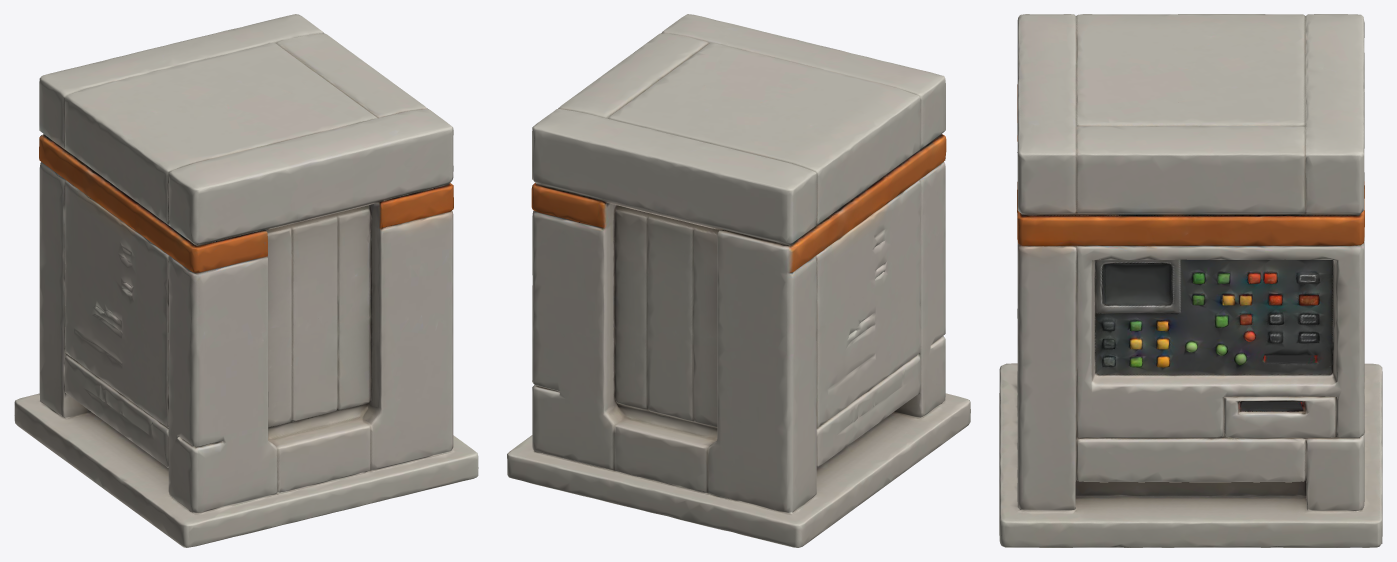
Rendered from tripo-output.glb.
3 renders of one model, left to right at view 1: azimuth 30°, elevation 25°; view 2: azimuth 150°, elevation 25°; view 3: azimuth 270°, elevation 25°, orthographic. The views are drawn at different scales.
Visible parts, largest first — view 1: tripo_node_bc15bf3e-319a-4455-bf9c-5b2950d0e815; view 2: tripo_node_bc15bf3e-319a-4455-bf9c-5b2950d0e815; view 3: tripo_node_bc15bf3e-319a-4455-bf9c-5b2950d0e815.
Boxes of the visible parts, x1,y1,x2,y2 form: tripo_node_bc15bf3e-319a-4455-bf9c-5b2950d0e815: (14,14,478,547); tripo_node_bc15bf3e-319a-4455-bf9c-5b2950d0e815: (507,14,970,547); tripo_node_bc15bf3e-319a-4455-bf9c-5b2950d0e815: (999,14,1382,547).
Bounding box in the file's own units: 0.8804 × 1 × 0.8942.
1 material, 1 textured.
